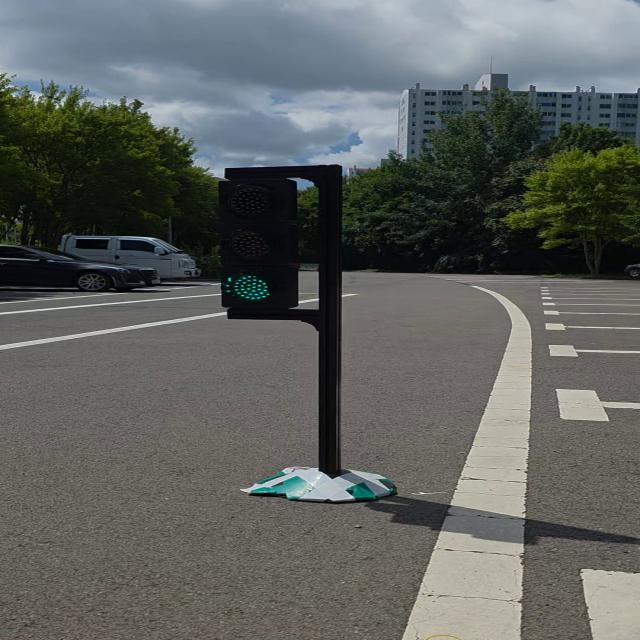green: (221, 172, 298, 316)
